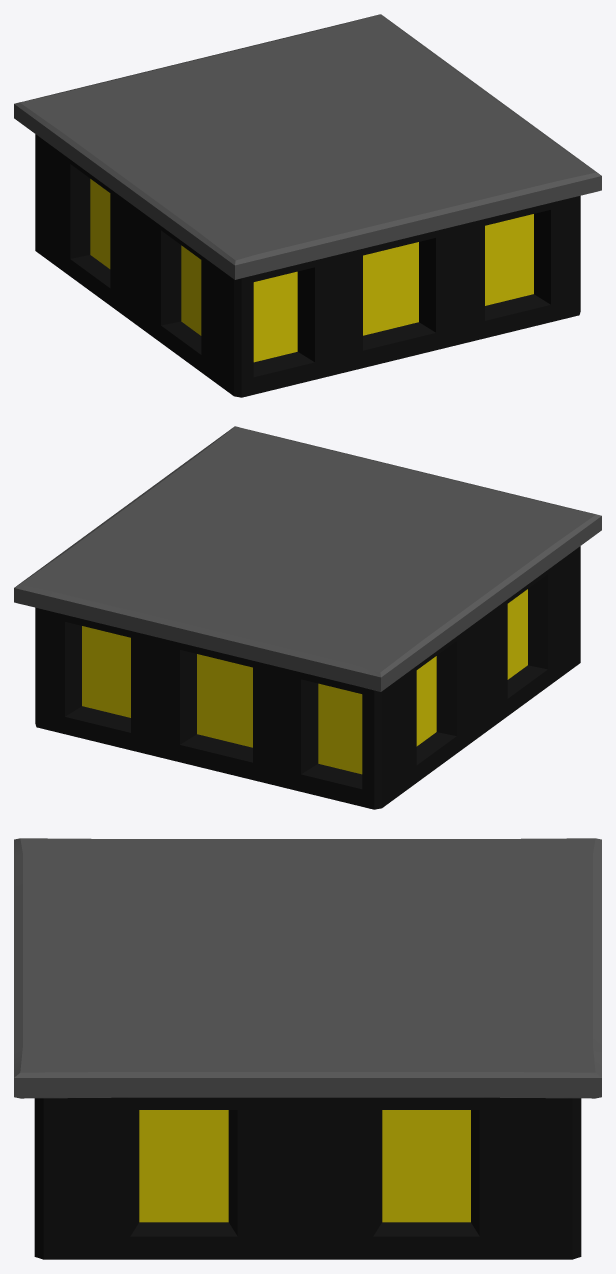
The model's file is building_02.FBX.
3 views of the same model, one above another, from view 1: azimuth 30°, elevation 25°; view 2: azimuth 150°, elevation 25°; view 3: azimuth 270°, elevation 25° (orthographic). The views are drawn at different scales.
Parts seen in each view (by area): view 1: Object007; view 2: Object007; view 3: Object007.
Boxes of the visible parts, x1,y1,x2,y2 form: Object007: [14, 14, 601, 397]; Object007: [14, 426, 601, 809]; Object007: [14, 838, 601, 1259].
Bounding box in the file's own units: 234 × 87.69 × 244.
